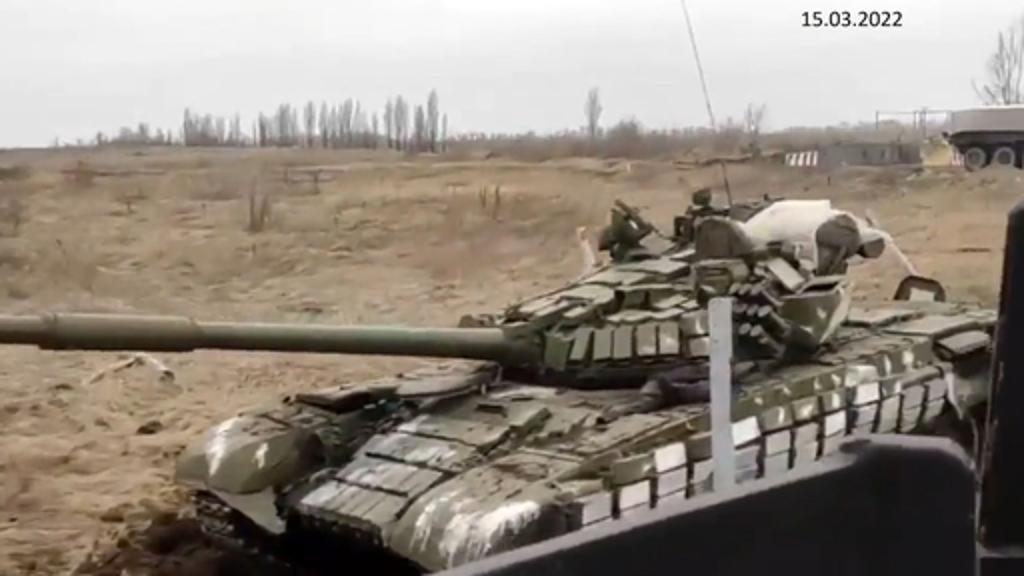TANK: (0, 184, 1004, 574)
